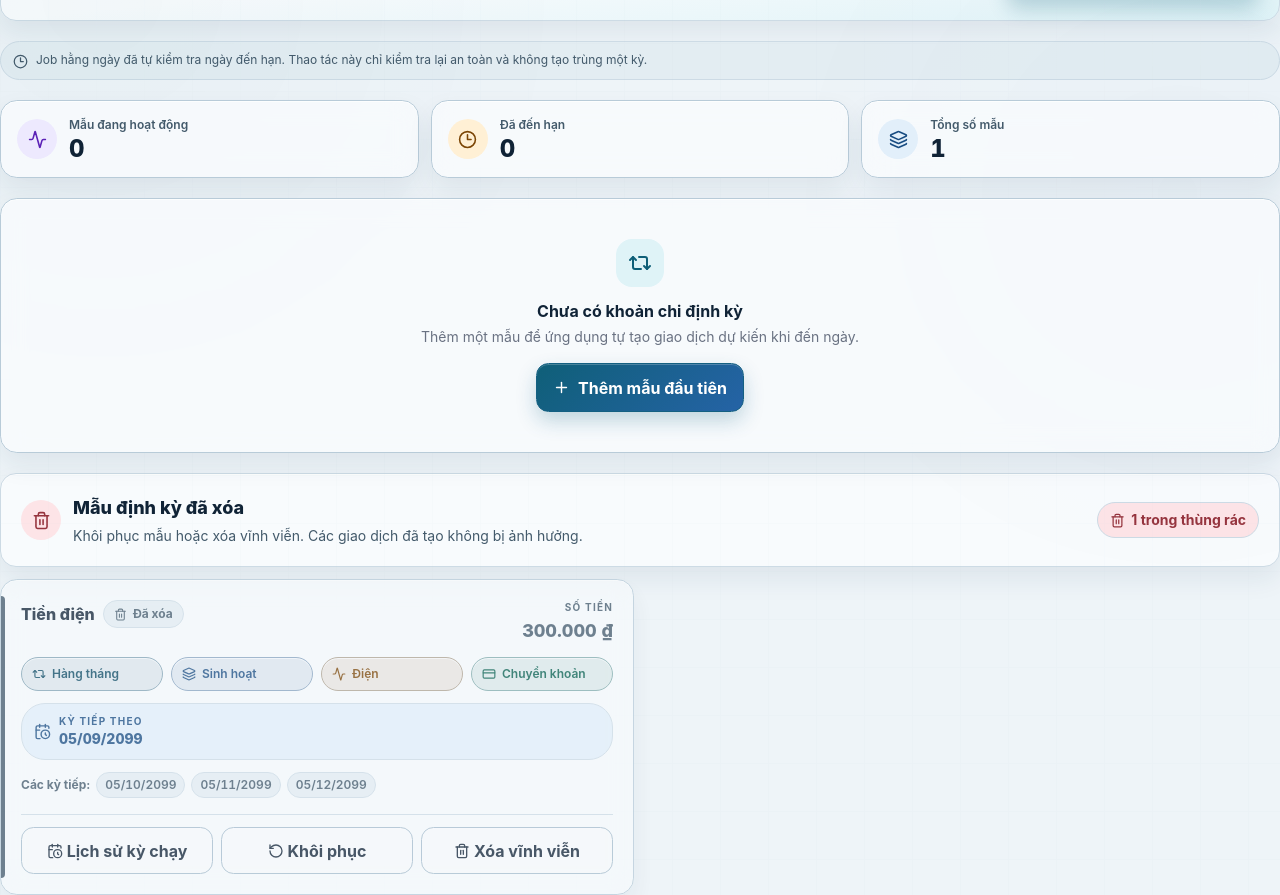
Test case: Chi phí định kỳ › cho owner khôi phục mẫu đã xóa mềm
(page scrolled)
Expected: the heading "Mẫu định kỳ đã xóa" is shown, [73,497,244,518]
What coordinates should you click on to do the following:
click the button "Khôi phục"
I would click on:
 (317, 851)
Its box is [221,827,413,874].
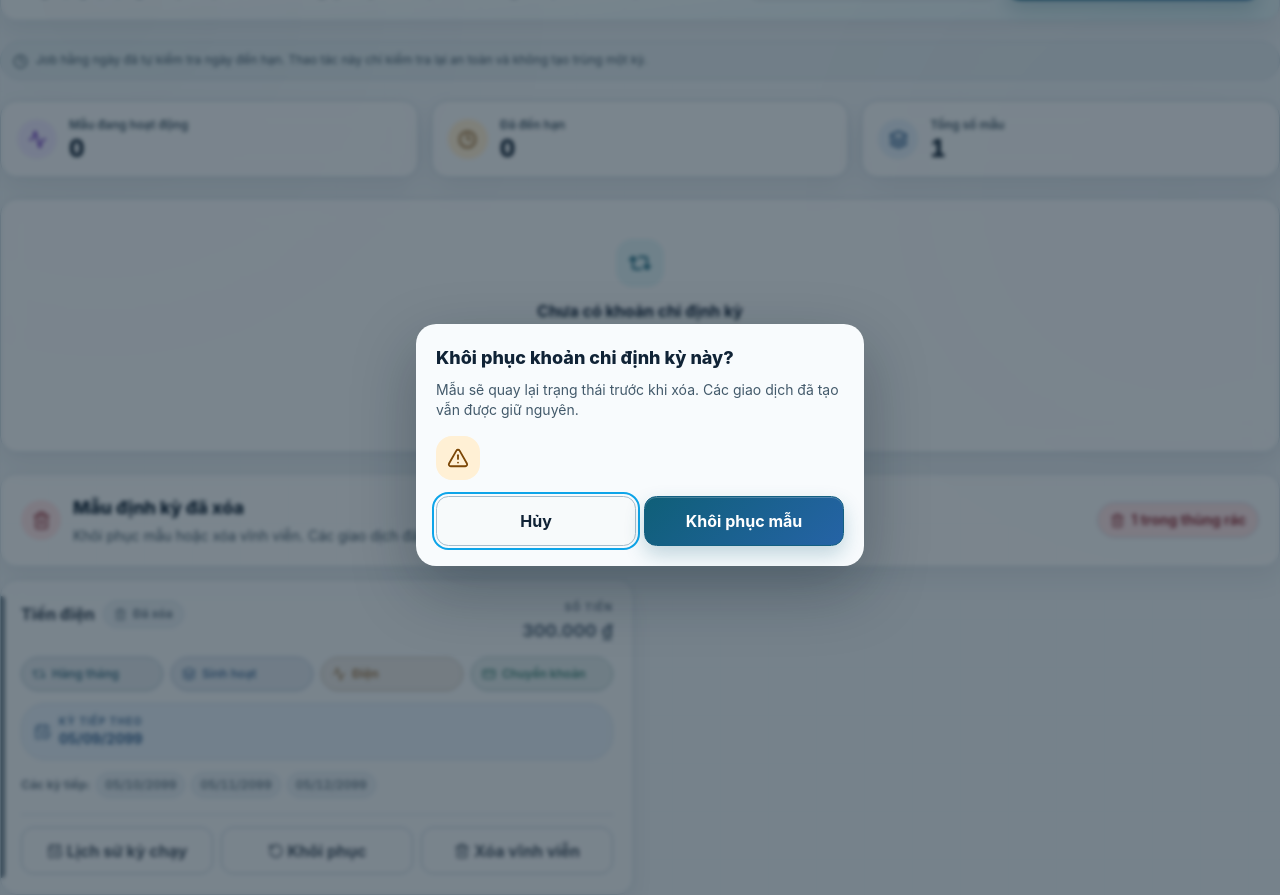
What coordinates should you click on to do the following:
click the button "Khôi phục mẫu"
I would click on:
 (744, 521)
Its box is [644,496,844,546].
(page scrolled)
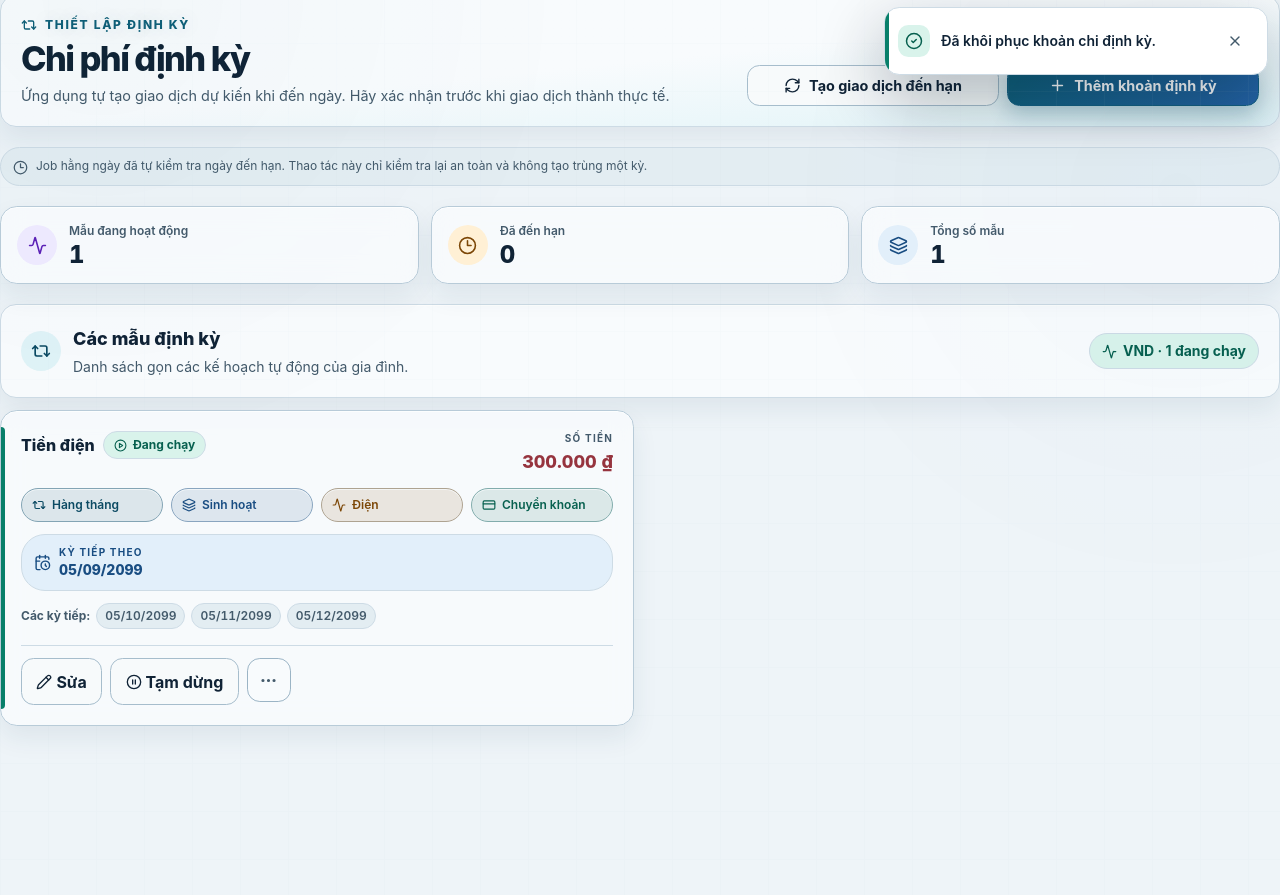
Now the heading "Mẫu định kỳ đã xóa" is gone
